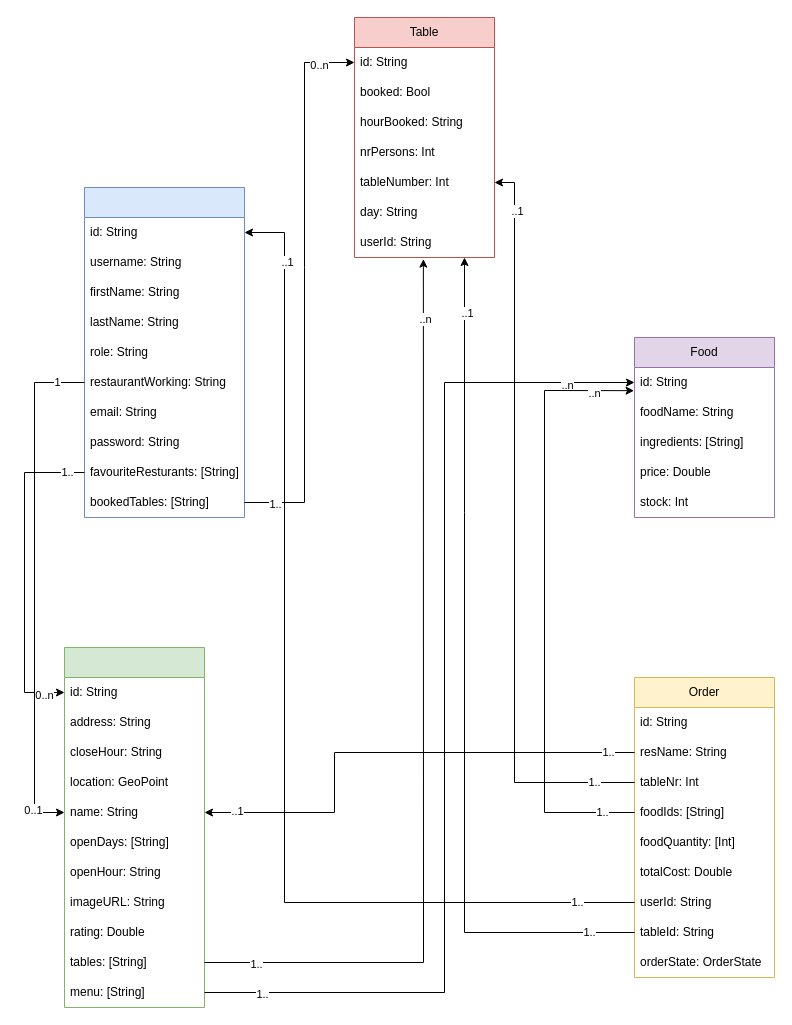
This 792x1025 diagram has some shape labels left out. Each missing label, with the box of its shape:
MyUser: (84, 186, 244, 518)
Restaurant: (64, 646, 204, 1008)
